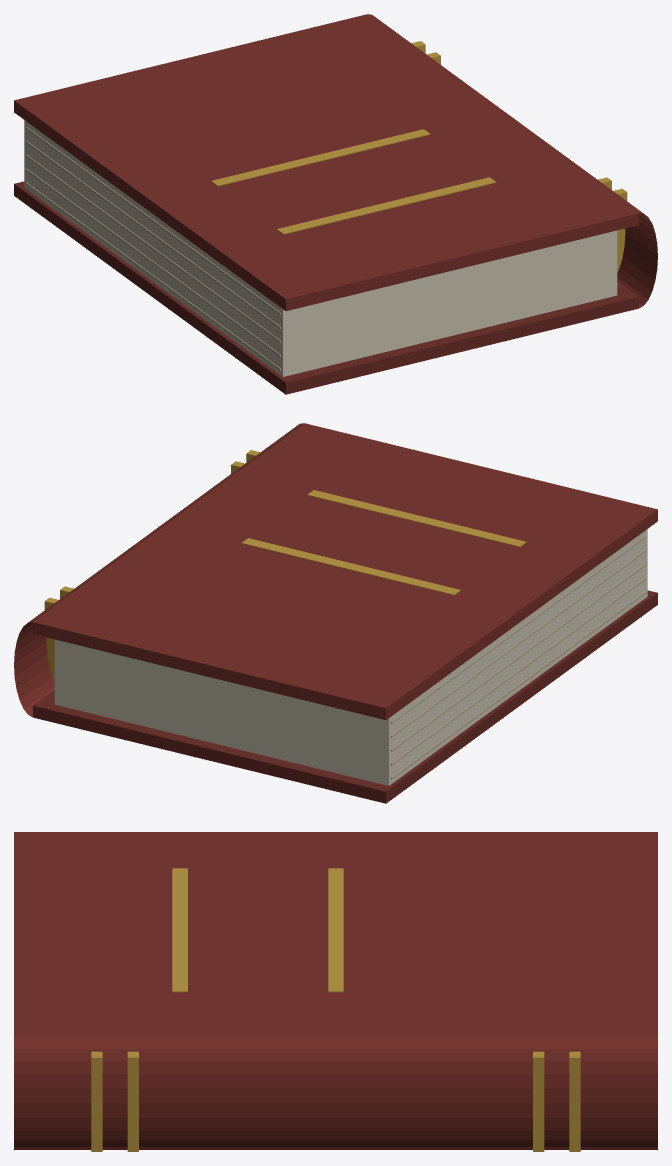
Rendered from Hut_Book.fbx.
3 renders of one model, top to bottom at view 1: azimuth 30°, elevation 25°; view 2: azimuth 150°, elevation 25°; view 3: azimuth 270°, elevation 25°, orthographic. The views are drawn at different scales.
Parts seen in each view (by area): view 1: Hut_Book; view 2: Hut_Book; view 3: Hut_Book.
Boxes of the visible parts, x1,y1,x2,y2 form: Hut_Book: [14, 14, 657, 394]; Hut_Book: [14, 423, 657, 803]; Hut_Book: [14, 832, 657, 1151].
Bounding box in the file's own units: 9.85 × 2.42 × 12.4.
